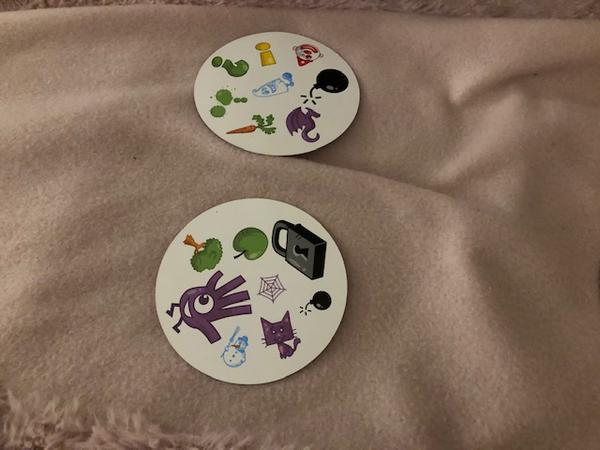arbre: (175, 227, 226, 275)
bombe: (299, 66, 351, 105), (299, 286, 334, 316)
bonhomme_neige: (216, 324, 250, 370)
cadenas: (267, 217, 331, 282)
carotte: (228, 111, 282, 140)
chat: (254, 308, 305, 362)
clown: (287, 37, 324, 68)
dooble: (164, 268, 254, 350)
dragon: (283, 104, 321, 144)
fantome: (251, 66, 301, 104)
point_exclamation: (254, 38, 277, 68)
point_interrogation: (209, 53, 250, 78)
pomme: (228, 224, 271, 267)
tache: (206, 80, 246, 119)
toile: (254, 271, 291, 303)
